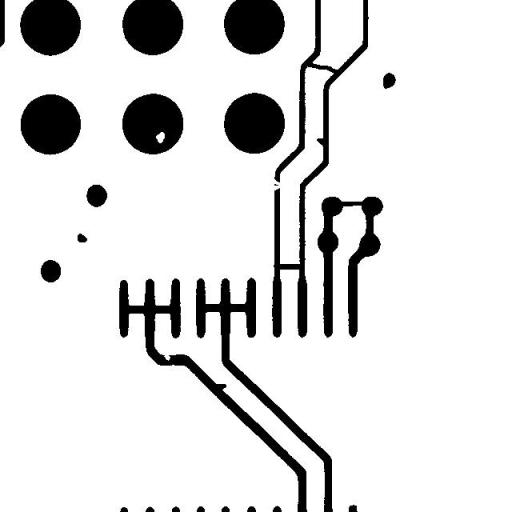copper: (70, 226, 94, 250)
mousebite: (156, 346, 178, 368)
open: (262, 170, 291, 198)
pin-hole: (148, 124, 172, 150)
short: (298, 54, 348, 81), (266, 256, 310, 277), (330, 194, 372, 214)
spur: (206, 376, 234, 397), (309, 130, 333, 154)
